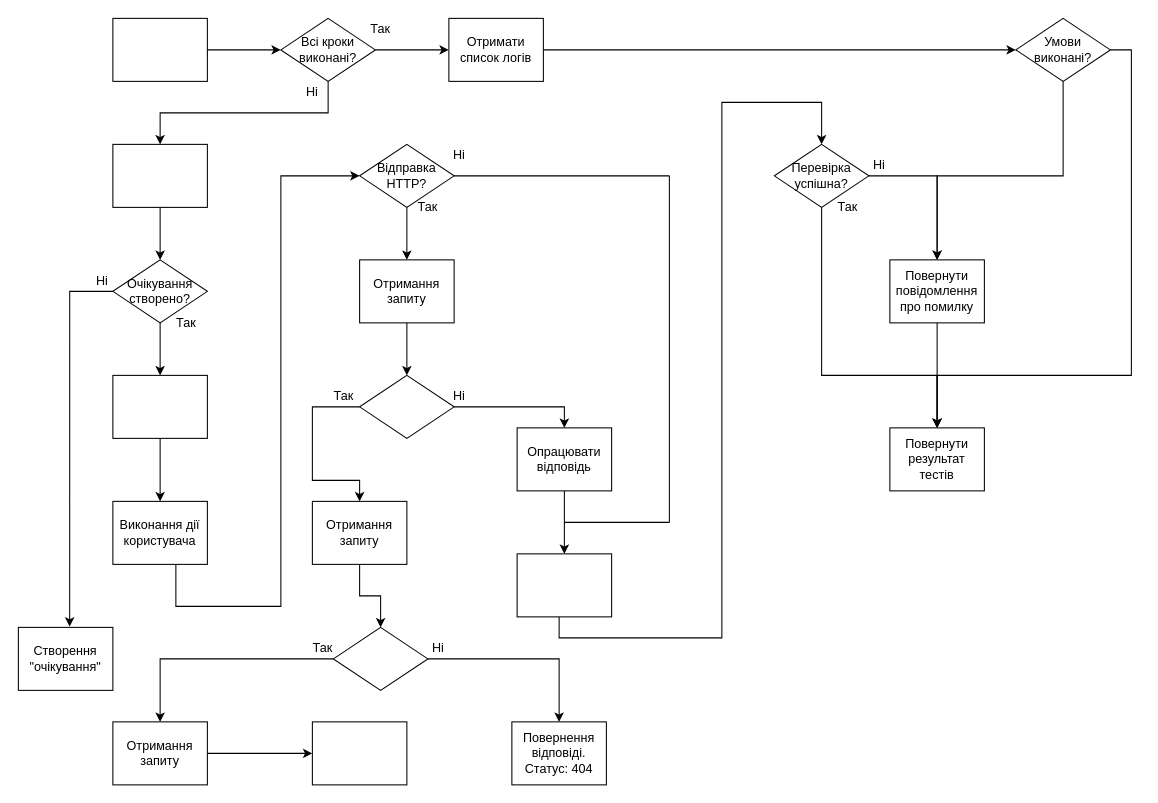
This 1158x803 diagram has some shape labels left out. The shapes that lost their labels are listed below. From the top down, each one's box as (x1, y1, x2, y2) in pixels, then its label:
(112, 17, 207, 81): Запуск Cucumber
(112, 143, 207, 207): Запуск Ruby-скрипт
(112, 374, 207, 438): Імітувати дії користувача
(359, 374, 454, 438): Необхідний редирект?
(516, 553, 612, 617): Перевірка виконання умов
(332, 626, 428, 690): відповідний запит?
(311, 721, 407, 785): Повернення відповіді. Статус: 200
